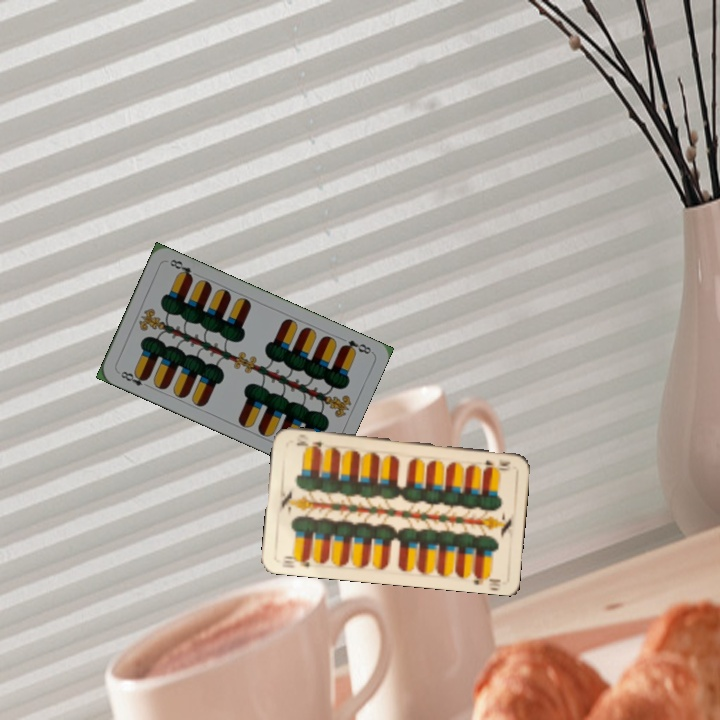E10: (278, 551, 312, 570), (481, 456, 513, 469)
E8: (114, 367, 152, 390), (337, 336, 374, 357)
